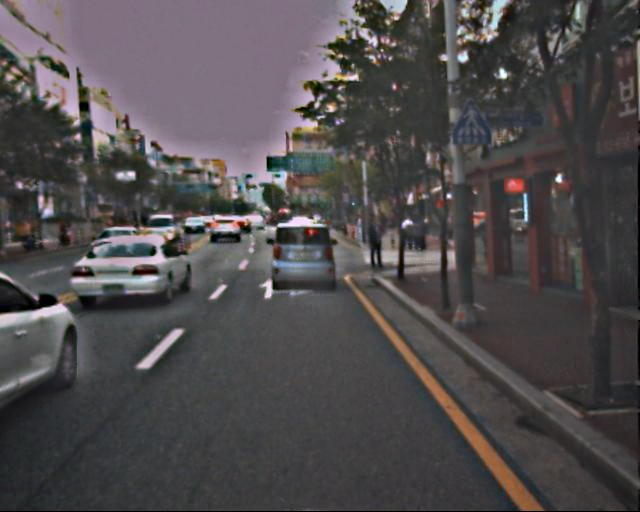person: (364, 213, 388, 271), (402, 222, 426, 252)
